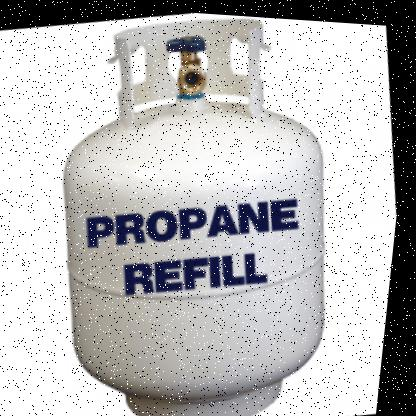gas-tank: (16, 2, 388, 415)
